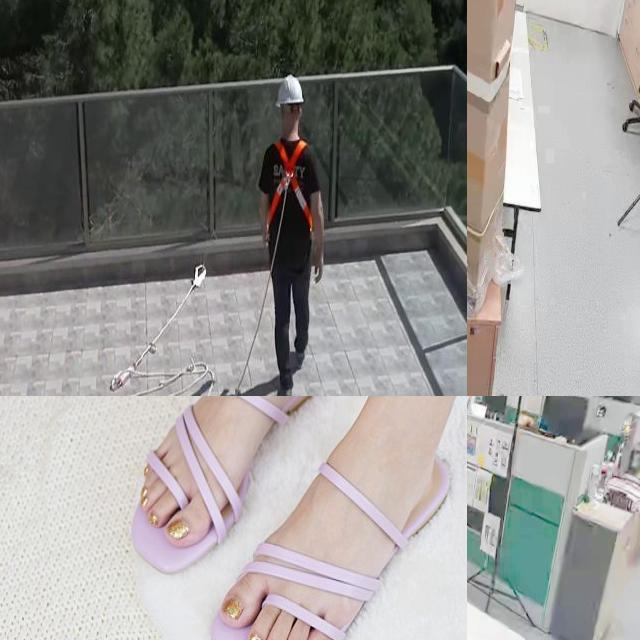Harness: (110, 264, 207, 392), (269, 140, 314, 230)
Sandals: (91, 396, 467, 640)
